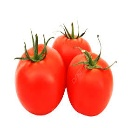tomato: (14, 43, 66, 115), (67, 52, 113, 116), (52, 34, 94, 92)
